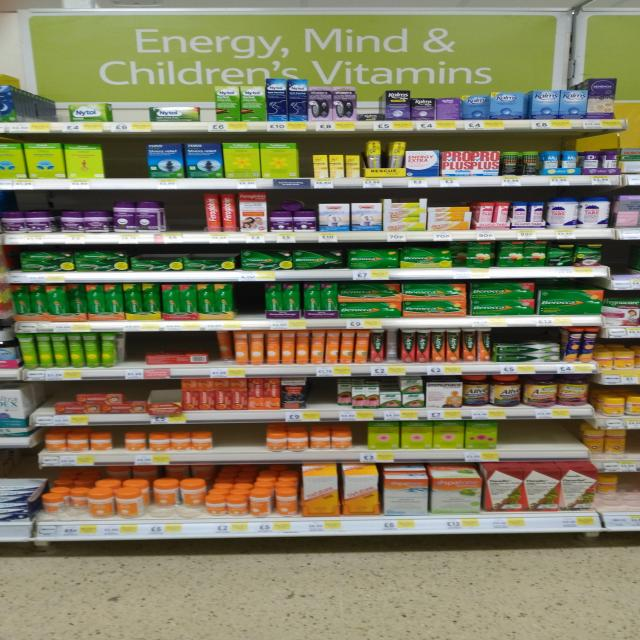unorganised: (87, 429, 149, 454), (153, 482, 206, 511), (44, 490, 88, 518), (141, 349, 210, 366), (452, 242, 498, 267), (66, 100, 117, 122), (148, 103, 202, 123), (463, 93, 490, 120), (597, 473, 621, 501), (67, 283, 86, 317), (387, 138, 406, 170), (383, 330, 402, 361), (215, 332, 233, 364), (333, 380, 352, 409)
